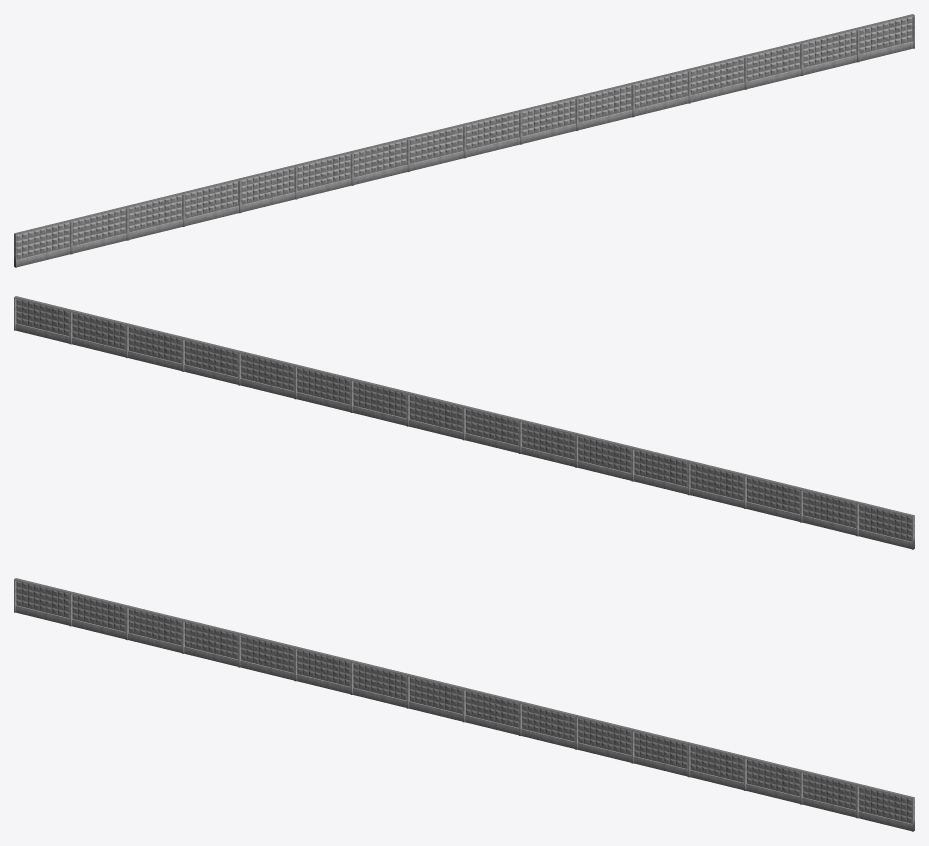
File: FenceConcrete1_5.FBX
3 renders of one model, top to bottom at view 1: azimuth 30°, elevation 25°; view 2: azimuth 150°, elevation 25°; view 3: azimuth 330°, elevation 25°, orthographic.
Visible parts, largest first — view 1: FenceConcrete1; view 2: FenceConcrete1; view 3: FenceConcrete1.
Part boxes in pixels (left/top/right/bottom): FenceConcrete1: left=14, top=14, right=914, bottom=267; FenceConcrete1: left=14, top=296, right=914, bottom=549; FenceConcrete1: left=14, top=578, right=914, bottom=831.
Size of the model in its own units: 2519 by 88.82 by 9.23.
